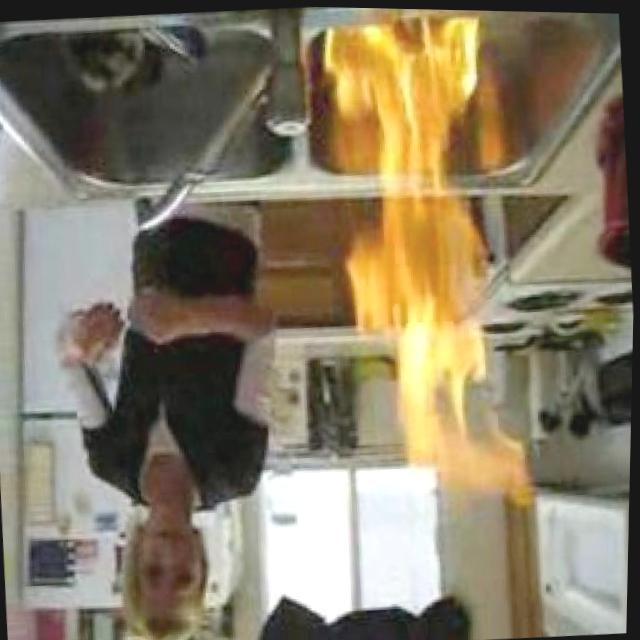helmet: (318, 6, 507, 390), (389, 378, 540, 511)
